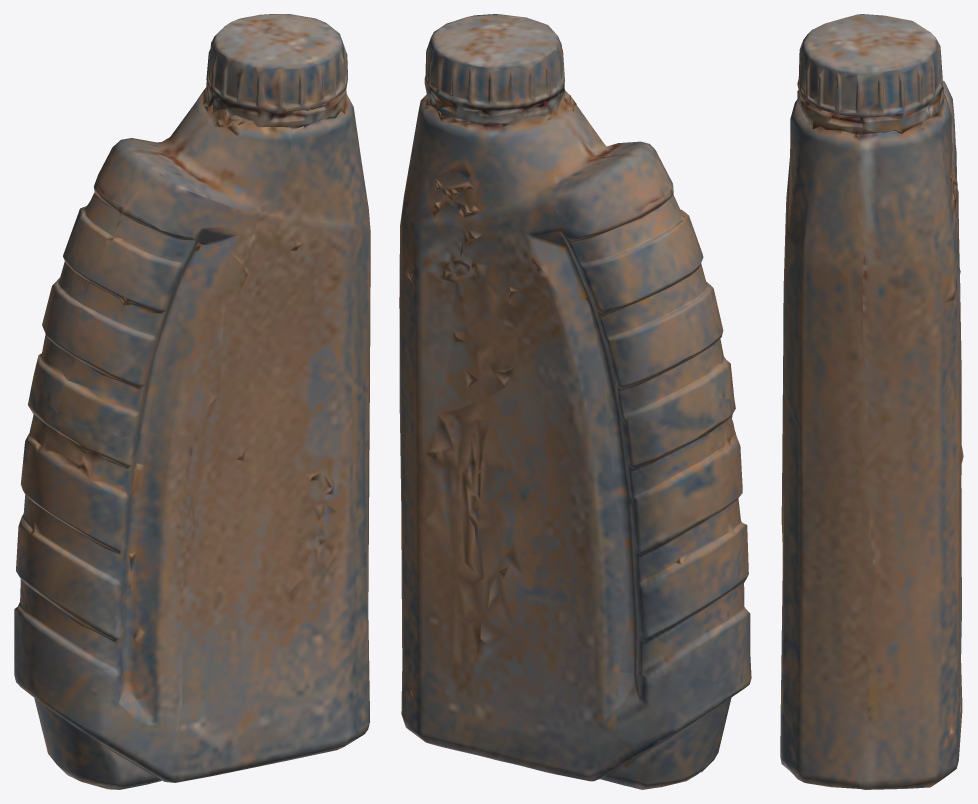
Rendered from SM_Ind_Con_Oil_Plastic_Pack_02_D.gltf.
3 views of the same model, side by side, from view 1: azimuth 30°, elevation 25°; view 2: azimuth 150°, elevation 25°; view 3: azimuth 270°, elevation 25° (orthographic). The views are drawn at different scales.
Visible parts, largest first — view 1: SM_Ind_Con_Oil_Plastic_Pack_02_D; view 2: SM_Ind_Con_Oil_Plastic_Pack_02_D; view 3: SM_Ind_Con_Oil_Plastic_Pack_02_D.
Part boxes in pixels (box(x1,y1,x2,y2)): SM_Ind_Con_Oil_Plastic_Pack_02_D: box(14, 14, 370, 789); SM_Ind_Con_Oil_Plastic_Pack_02_D: box(399, 14, 751, 789); SM_Ind_Con_Oil_Plastic_Pack_02_D: box(780, 14, 963, 789).
Bounding box in the file's own units: 0.1234 × 0.251 × 0.0576.
Materials: 1 (1 with a texture image).
